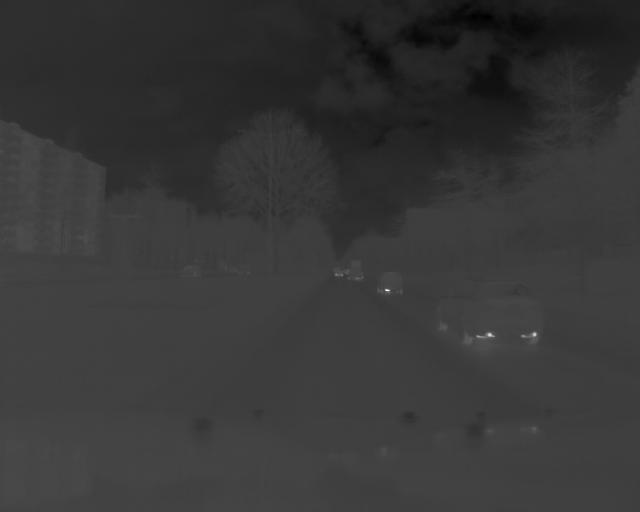car: (433, 280, 546, 351), (375, 272, 406, 298), (176, 262, 201, 277), (349, 270, 366, 284)
